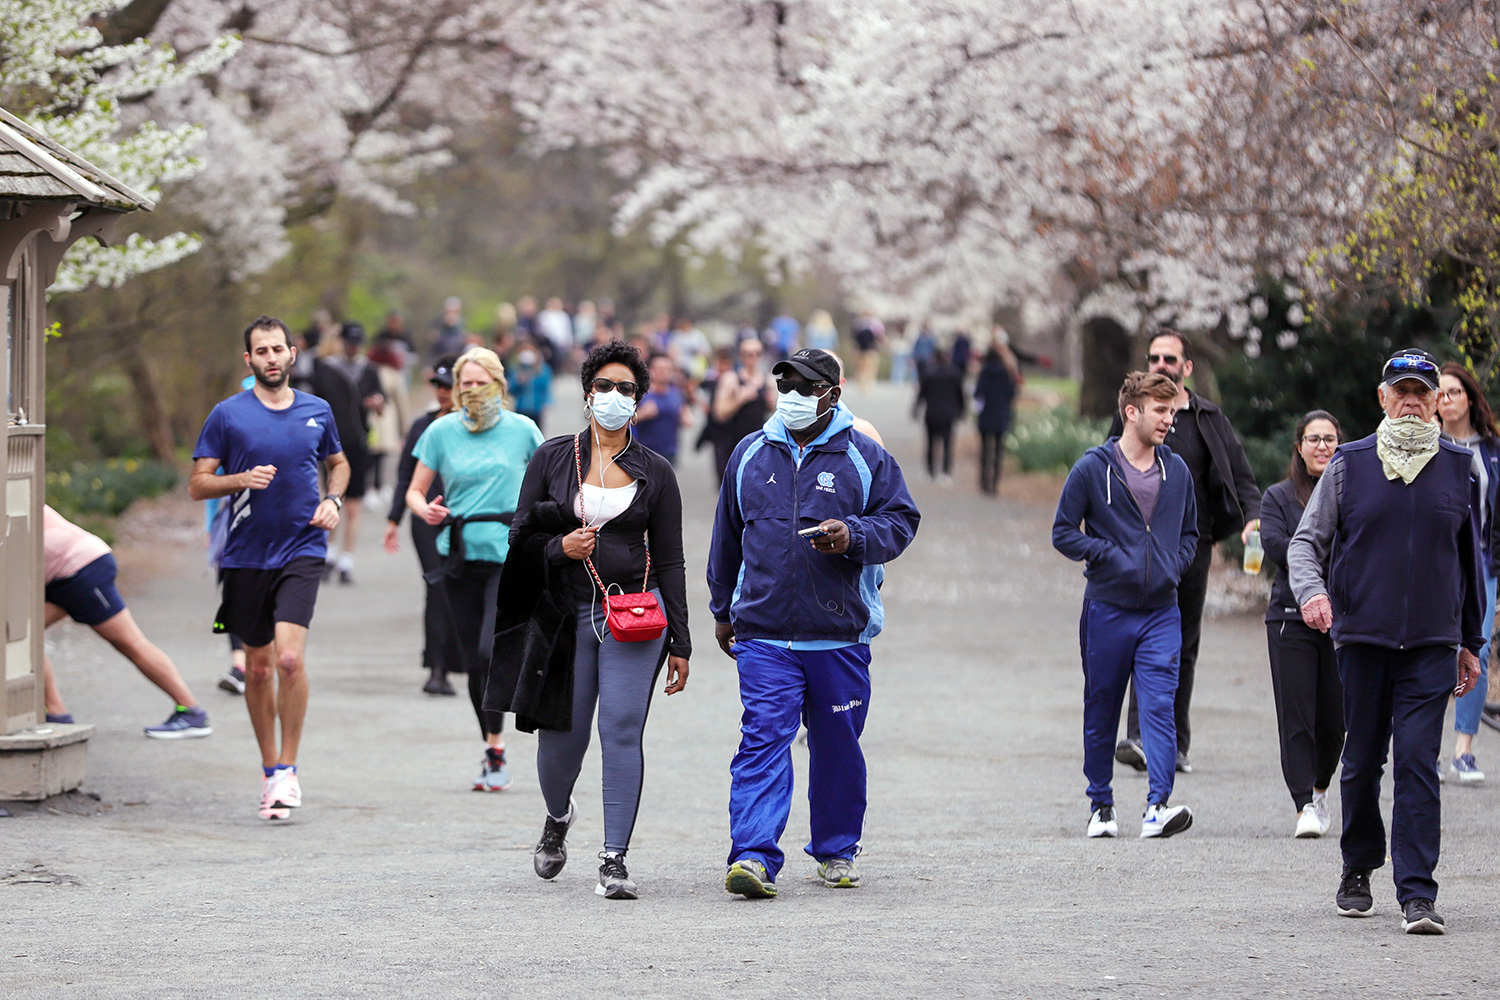person: (1291, 349, 1484, 935), (707, 351, 898, 904), (523, 347, 693, 903), (189, 319, 352, 837), (1054, 372, 1198, 835)
